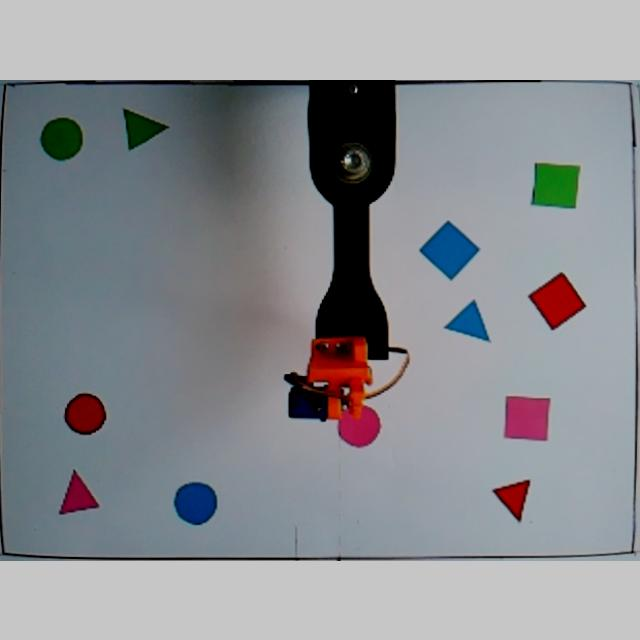blueCircle: (174, 478, 218, 526)
blueSquare: (417, 216, 481, 282)
blueTriangle: (440, 295, 492, 345)
greenCircle: (39, 113, 83, 161)
greenSquare: (532, 159, 582, 211)
greenTriangle: (120, 104, 172, 150)
pinkCircle: (336, 400, 382, 448)
pinkSquare: (56, 468, 104, 516)
pinkTriangle: (502, 389, 552, 441)
redCircle: (64, 388, 108, 436)
redSquare: (528, 268, 588, 332)
redTriangle: (490, 476, 534, 524)
